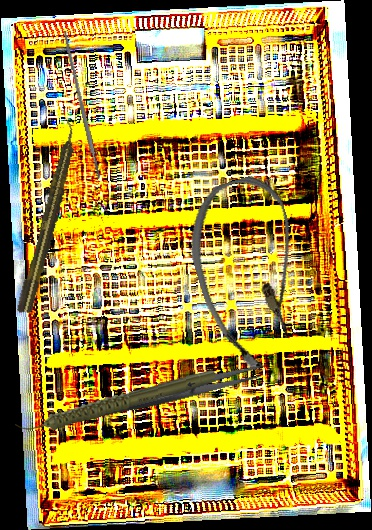Cannula: (173, 169, 328, 378)
Dressing Forceps: (54, 357, 270, 431)
Handpiece: (14, 119, 84, 317), (13, 367, 217, 434)
Scalpel Handle: (61, 30, 102, 180)
